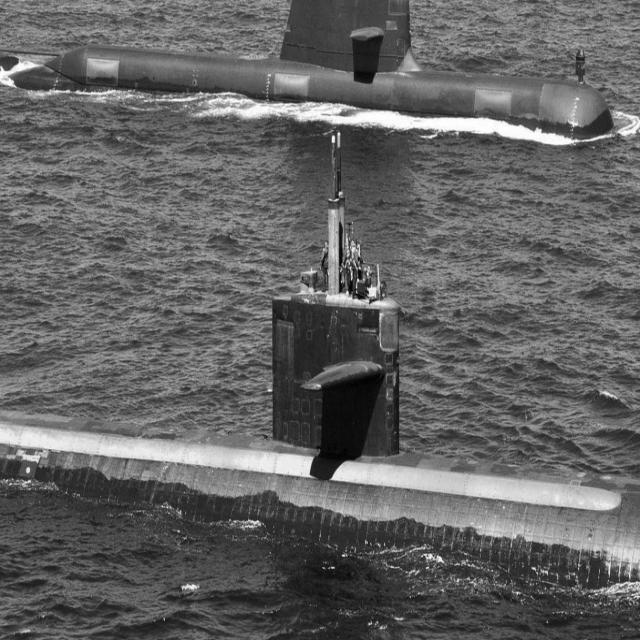submarine: (1, 115, 640, 639), (1, 1, 633, 168)
